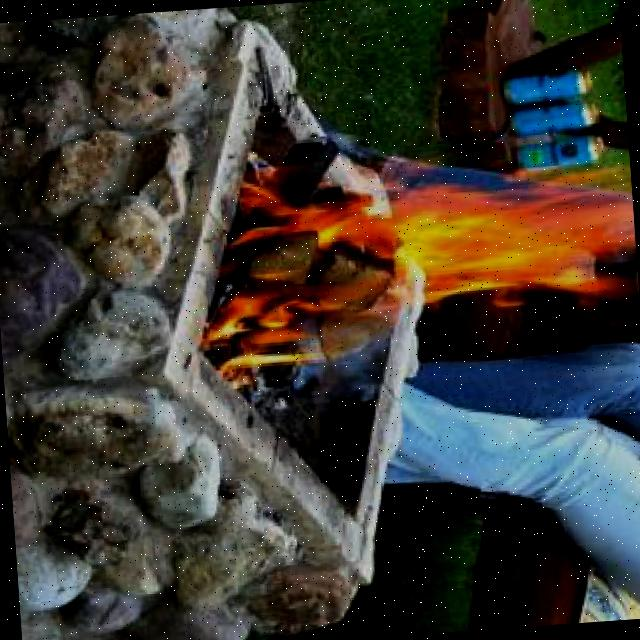fire: (191, 145, 640, 381)
